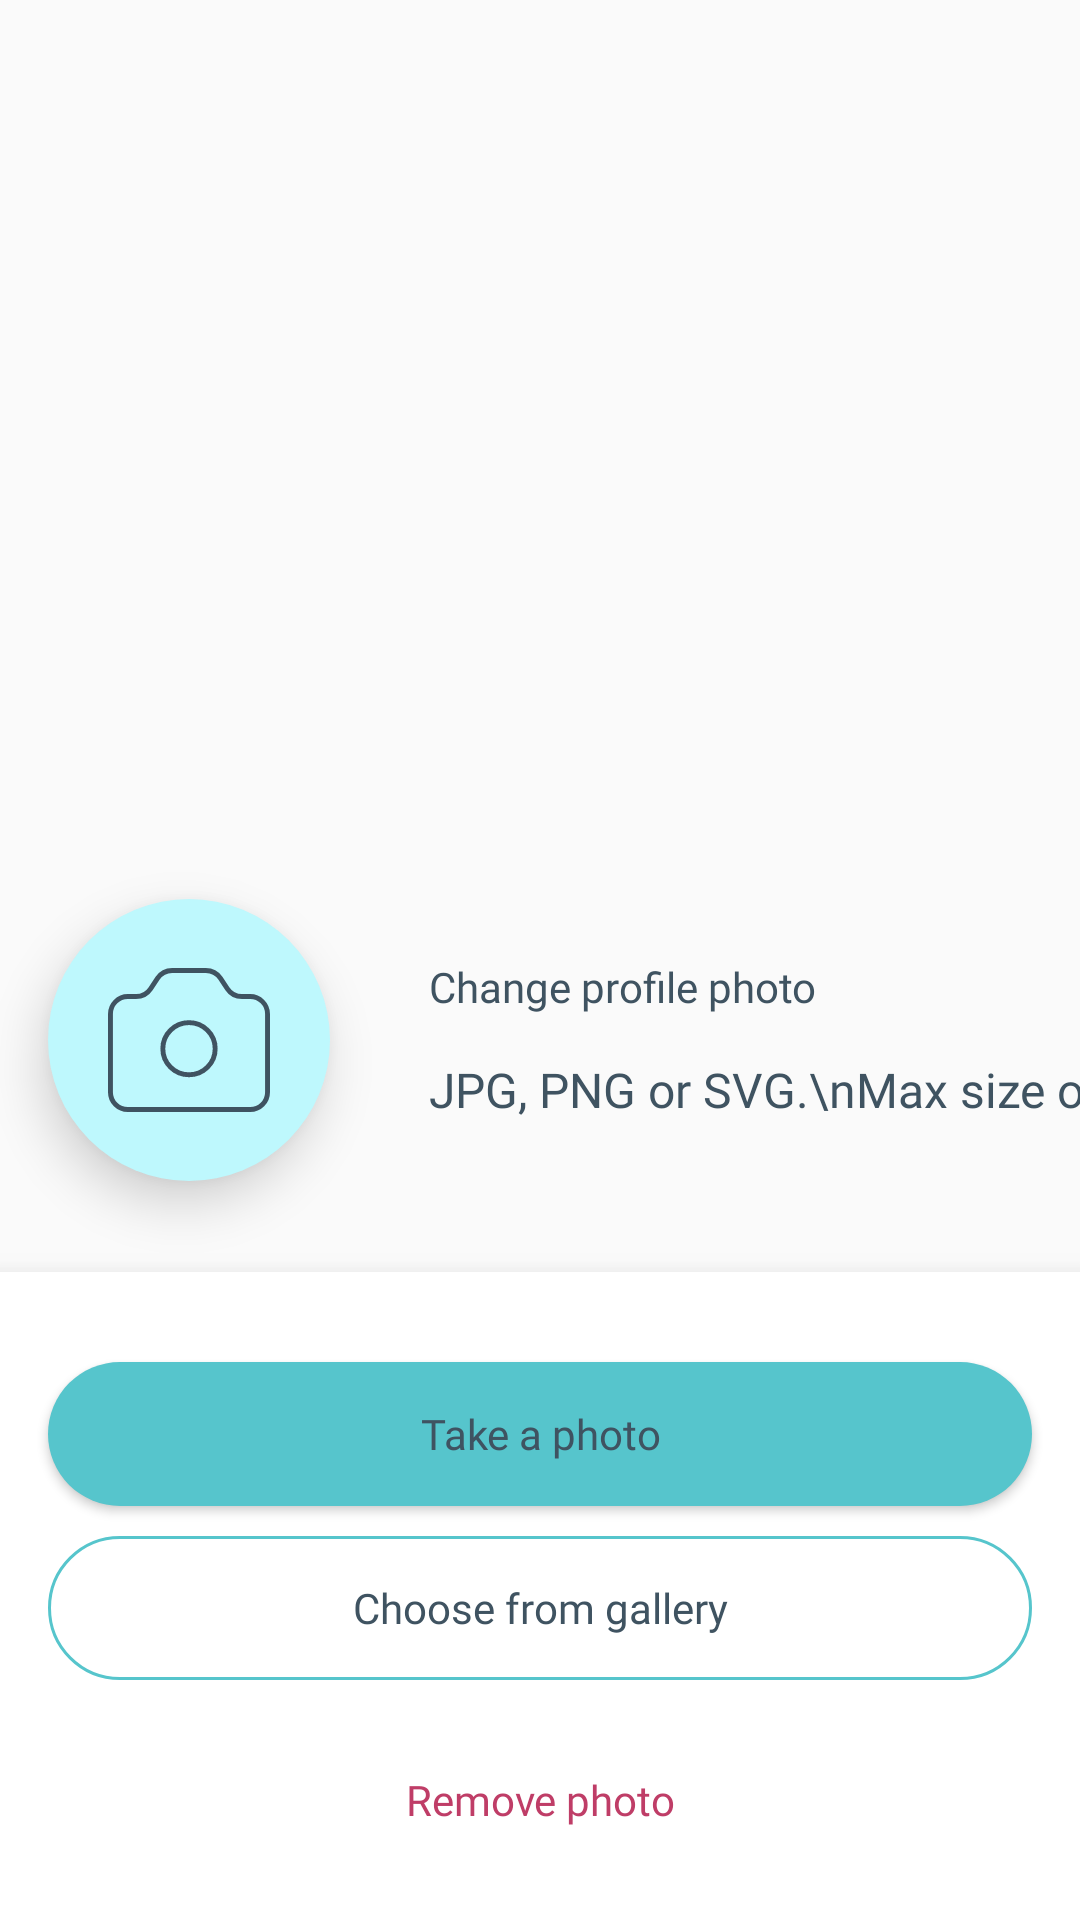

Where icons sit on this 1080 x 1920 app screen, as (x1, y1, x2, y2):
camera illustration: (108, 968, 270, 1112)
